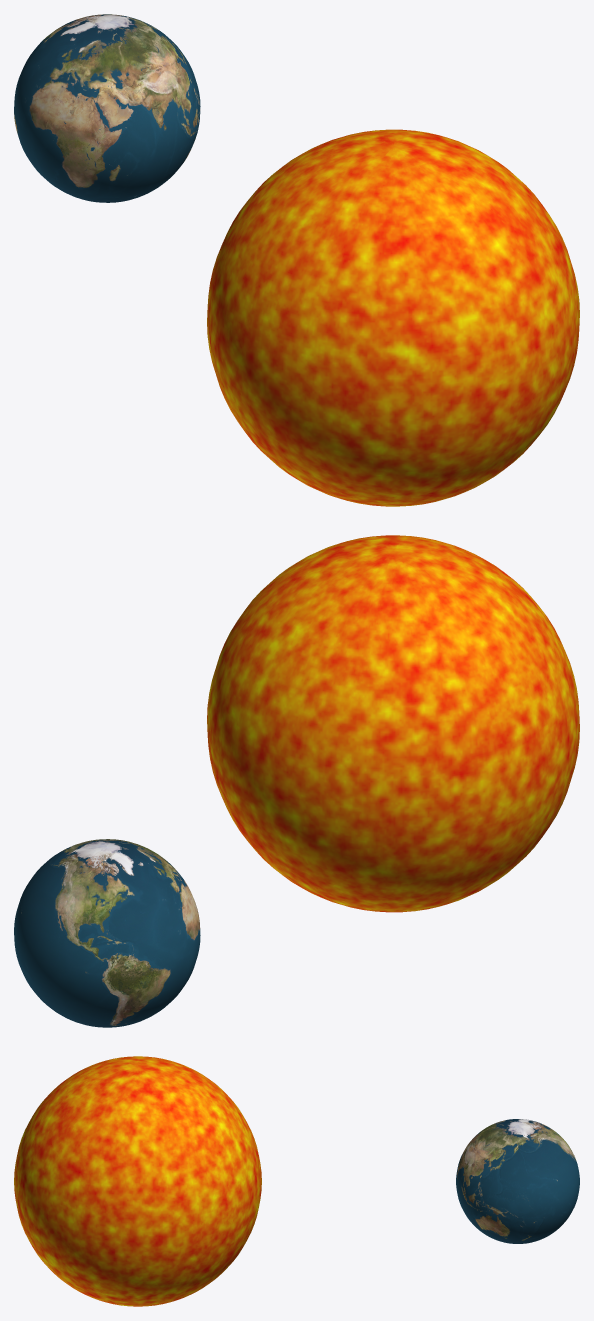
File: DLF.fbx
3 views of the same model, one above another, from view 1: azimuth 30°, elevation 25°; view 2: azimuth 150°, elevation 25°; view 3: azimuth 270°, elevation 25° (orthographic). The views are drawn at different scales.
Parts seen in each view (by area): view 1: Sun, Earth2; view 2: Sun, Earth2; view 3: Sun, Earth2.
Part boxes in pixels (box(x1,y1,x2,y2)): Sun: box(207, 129, 579, 506); Earth2: box(14, 14, 200, 202); Sun: box(207, 535, 579, 912); Earth2: box(14, 839, 200, 1027); Sun: box(14, 1056, 261, 1306); Earth2: box(456, 1119, 579, 1243).
Size of the model in its own units: 1.97 by 2 by 4.5.
2 materials, 2 textured.
